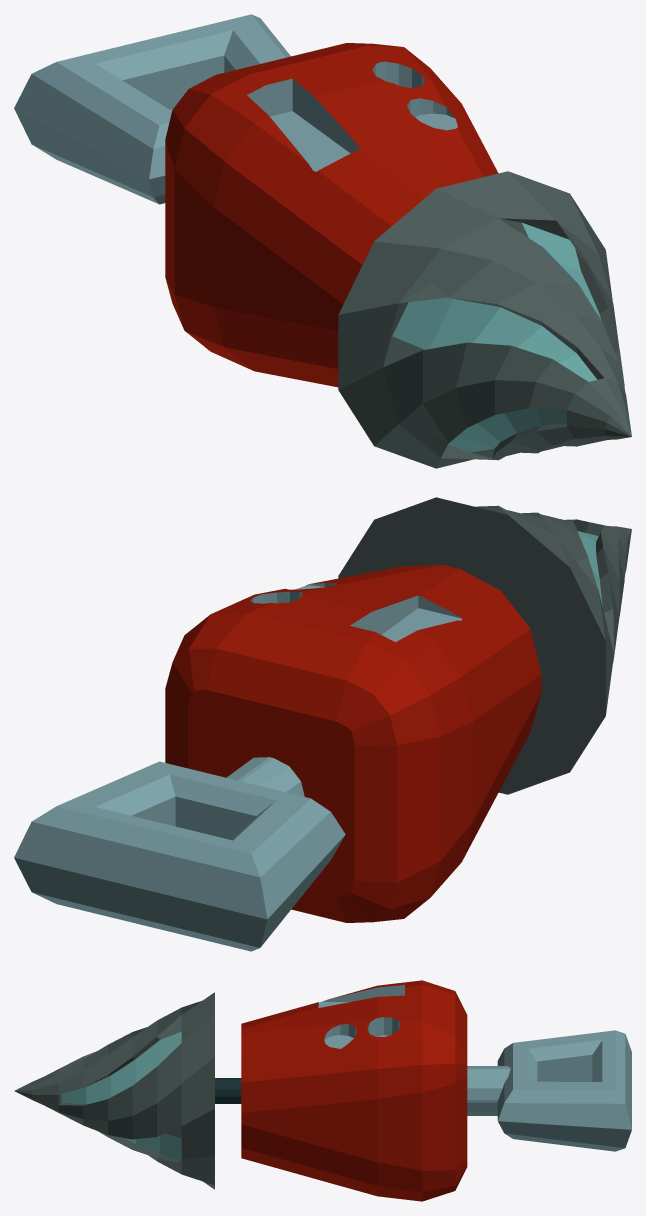
Rendered from drill.fbx.
The picture shows the model from 3 angles, top to bottom: view 1: azimuth 30°, elevation 25°; view 2: azimuth 150°, elevation 25°; view 3: azimuth 270°, elevation 25°; orthographic projection. The views are drawn at different scales.
Parts seen in each view (by area): view 1: Body, Tip; view 2: Body, Tip; view 3: Body, Tip.
Part boxes in pixels (x1,y1,x2,y2): Body: (14,14,498,387); Tip: (338,171,631,468); Body: (14,565,541,951); Tip: (338,497,631,794); Body: (215,980,631,1201); Tip: (14,992,214,1189).
Bounding box in the file's own units: 18.47 × 18.47 × 58.74.
